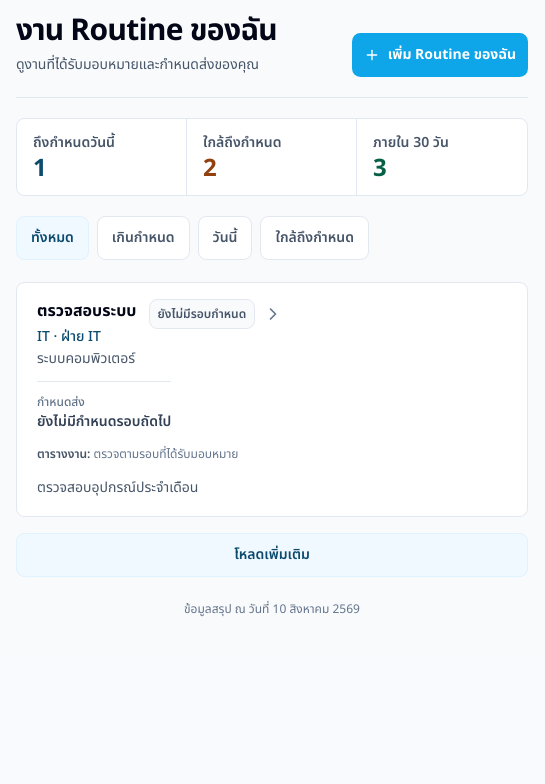
Test: LiffRoutineApp › loads the next page without replacing the first page
Expected: the heading "ตรวจสอบระบบ" is shown, [37,299,136,323]
Click the button "โหลดเพิ่มเติม": (272, 555) [16,533,528,577]
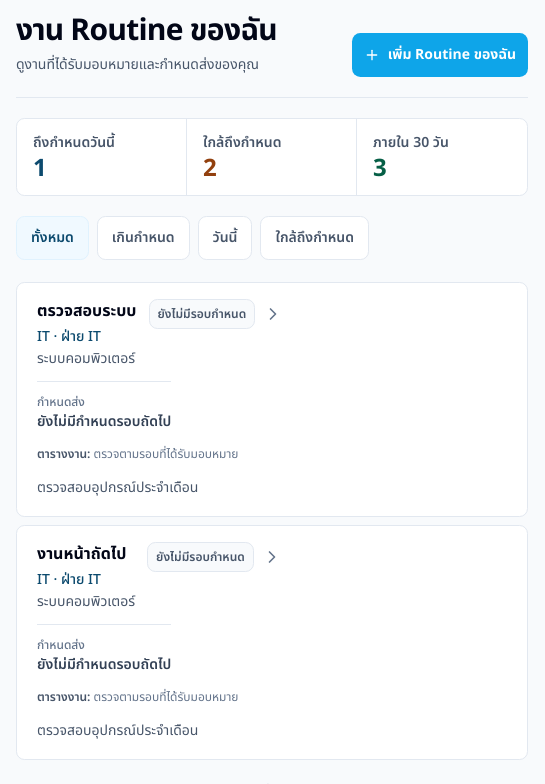
Expected: the heading "ตรวจสอบระบบ" is shown, [37,299,136,323]
Now the heading "งานหน้าถัดไป" is shown, box [37,542,135,566]
